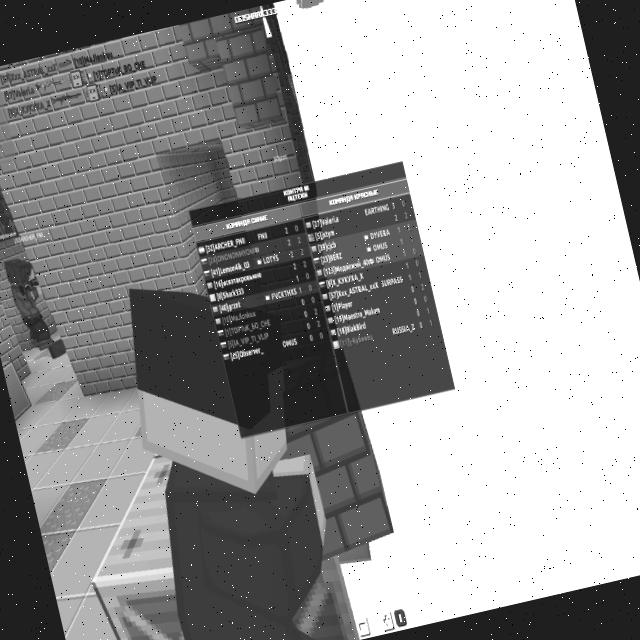Head: (106, 256, 316, 517), (2, 253, 36, 288)
Player: (102, 255, 353, 640), (2, 252, 59, 364)
